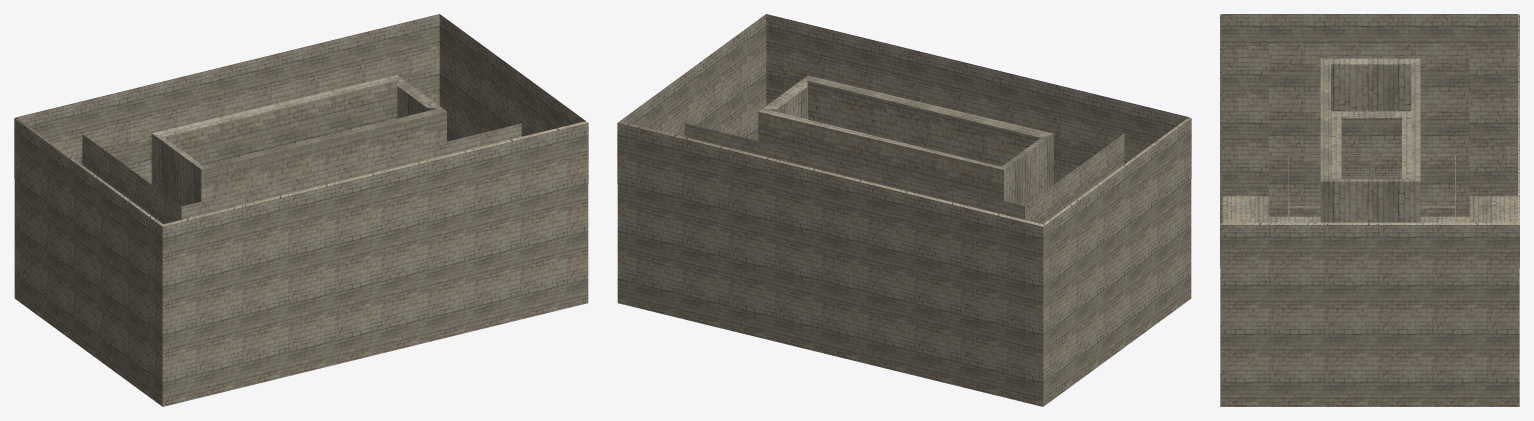
The model's file is material5-uvlow.FBX.
The picture shows the model from 3 angles, left to right: view 1: azimuth 30°, elevation 25°; view 2: azimuth 150°, elevation 25°; view 3: azimuth 270°, elevation 25°; orthographic projection.
Parts seen in each view (by area): view 1: material_005_uvlow; view 2: material_005_uvlow; view 3: material_005_uvlow.
Part boxes in pixels (bbox=[...]): material_005_uvlow: bbox=[14, 14, 588, 406]; material_005_uvlow: bbox=[617, 14, 1191, 406]; material_005_uvlow: bbox=[1220, 14, 1519, 406].
Bounding box in the file's own units: 28909 × 11789 × 17430.
